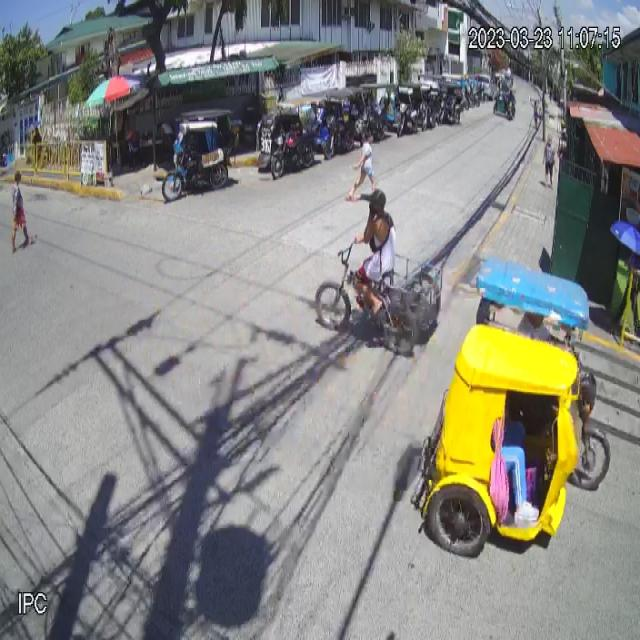Tricycle: (418, 257, 611, 558)
